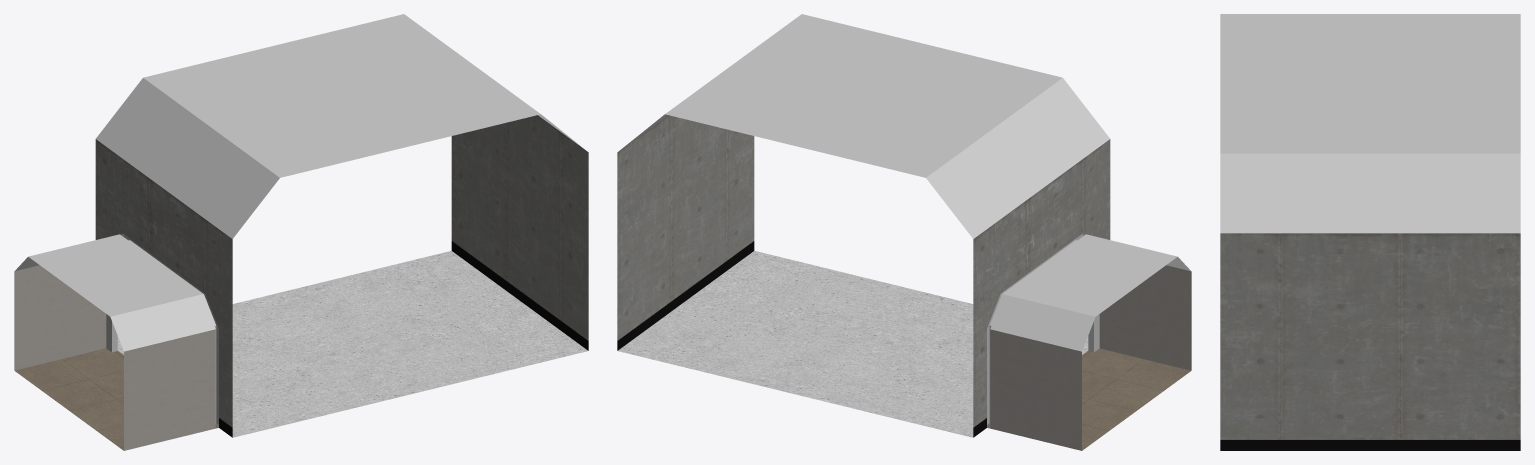
The model's file is GC Embrasure.fbx.
3 views of the same model, side by side, from view 1: azimuth 30°, elevation 25°; view 2: azimuth 150°, elevation 25°; view 3: azimuth 270°, elevation 25° (orthographic). The views are drawn at different scales.
Parts seen in each view (by area): view 1: Couloir vers GC; view 2: Couloir vers GC; view 3: Couloir vers GC.
Boxes of the visible parts, x1,y1,x2,y2 form: Couloir vers GC: (14, 14, 588, 450); Couloir vers GC: (617, 14, 1191, 450); Couloir vers GC: (1220, 14, 1520, 450).
Size of the model in its own units: 1900 by 1000 by 1000.
